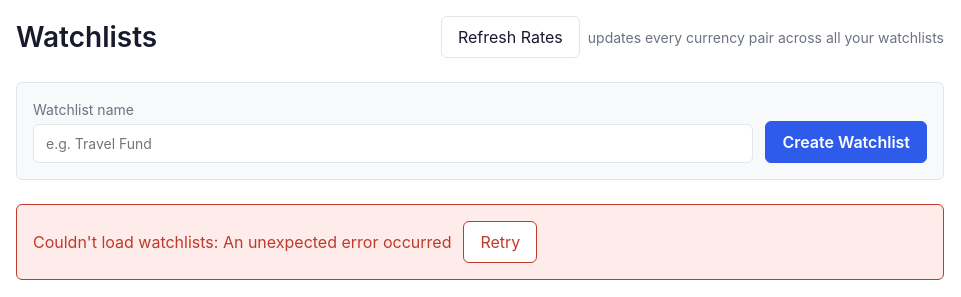
Test: the three ApiError-driven UI treatments › page-level retry: a full-page fetch failure replaces the content area with an error and a Retry button
This screenshot has width=961, height=297.
Expected: the text "no watchlists yet" is not shown
What coordinates should you click on to do the following:
click the button "Retry"
I would click on:
 (500, 242)
Its box is [463,221,537,263].
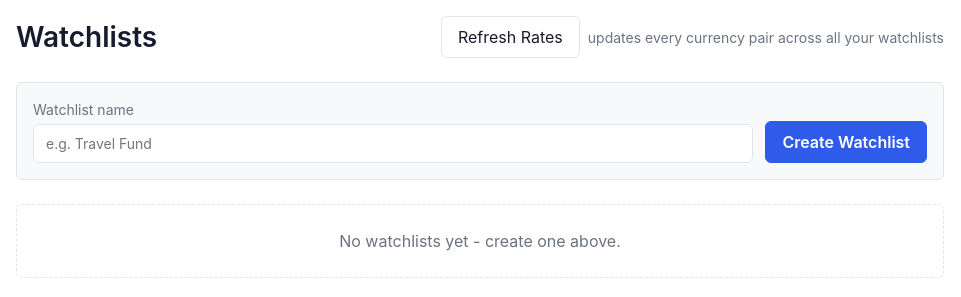
Expected: the text "No watchlists yet - create one above." is shown, [16,204,944,278]
